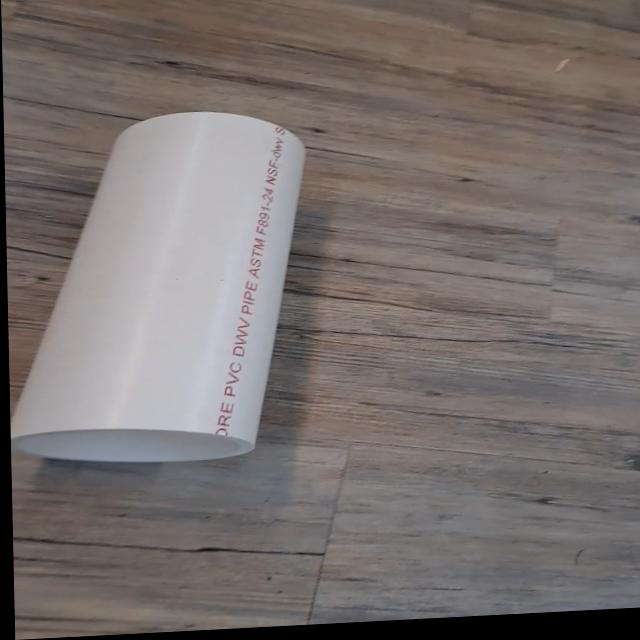CORAL: (3, 100, 319, 482)
